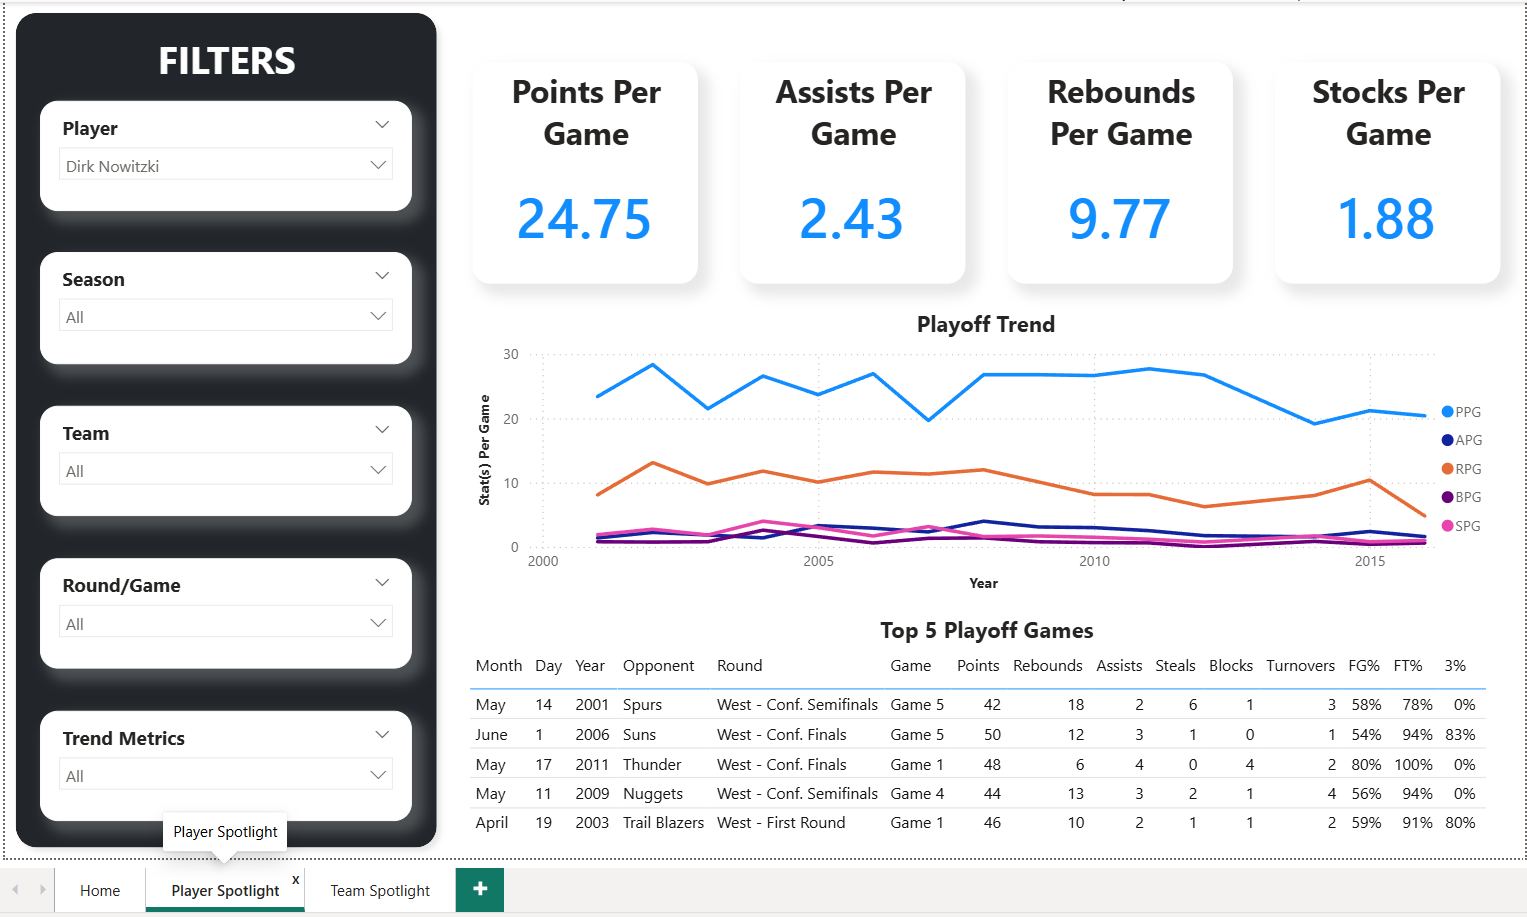

The page's visual inventory and layout, read from the dashboard file:
{"tool":"powerbi","page":{"name":"Player Spotlight","canvas":[1280,720],"ordinal":1},"visuals":[{"type":"shape","box":[0,0,372.2,720.2],"z":0},{"type":"textbox","box":[118.8,21,135.6,54.7],"z":1000},{"type":"slicer","fields":{"Values":["dim_players.player_name"]},"box":[29.1,82.6,312.8,93],"z":2000},{"type":"slicer","fields":{"Values":["processed_player_boxscores.season_year"]},"box":[29.1,210.8,312.8,94.2],"z":3000},{"type":"slicer","fields":{"Values":["processed_player_boxscores.team_name"]},"box":[29.1,340.1,312.8,93],"z":4000},{"type":"slicer","fields":{"Values":["processed_player_boxscores.gamelabel","processed_player_boxscores.gamesublabel"]},"box":[29.1,468.3,312.8,93],"z":5000},{"type":"cardVisual","title":"Points Per Game","fields":{"Data":["_Measures.PPG"]},"box":[393,50,189.5,186],"z":6000},{"type":"cardVisual","title":"Assists Per Game","fields":{"Data":["_Measures.APG"]},"box":[618.2,50,189.5,186],"z":7000},{"type":"cardVisual","title":"Rebounds Per Game","fields":{"Data":["_Measures.RPG"]},"box":[843.4,50,189.5,186],"z":8000},{"type":"cardVisual","title":"Stocks Per Game","fields":{"Data":["_Measures.SPG"]},"box":[1068.6,50,189.5,186],"z":9000},{"type":"lineChart","title":"Playoff Trend","fields":{"Y":["_Measures.PPG","_Measures.APG","_Measures.RPG","_Measures.BPG","_Measures.SPG"],"Category":["dim_games.season_year"]},"box":[393.2,257.6,864.3,243.9],"z":10000},{"type":"slicer","fields":{"Values":["Trend Metrics.Trend Metrics"]},"box":[29.1,596.5,312.8,93],"z":11000},{"type":"tableEx","title":"Top 5 Playoff Games","fields":{"Values":["processed_player_boxscores.gamedatetimeest.Variation.Date Hierarchy.Month","processed_player_boxscores.gamedatetimeest.Variation.Date Hierarchy.Day","processed_player_boxscores.gamedatetimeest.Variation.Date Hierarchy.Year","processed_player_boxscores.opponent_team_name","processed_player_boxscores.gamelabel","processed_player_boxscores.gamesublabel","processed_player_boxscores.points","processed_player_boxscores.rebounds","processed_player_boxscores.assists","processed_player_boxscores.steals","processed_player_boxscores.blocks","processed_player_boxscores.turnovers"]},"box":[384.8,515.2,882.1,198.7],"z":12000}]}

Visuals, with their boxes on the page's 1280x720 design canvas (x1, y1, x2, y2). These are canvas units, not pixel positions in the 1527x917 screenshot, which may show the page scaled, cropped or inside an application window:
shape: BBox(0, 0, 372, 720)
textbox: BBox(119, 21, 254, 76)
slicer - dim_players.player_name: BBox(29, 83, 342, 176)
slicer - processed_player_boxscores.season_year: BBox(29, 211, 342, 305)
slicer - processed_player_boxscores.team_name: BBox(29, 340, 342, 433)
slicer - processed_player_boxscores.gamelabel x processed_player_boxscores.gamesublabel: BBox(29, 468, 342, 561)
"Points Per Game" cardVisual: BBox(393, 50, 582, 236)
"Assists Per Game" cardVisual: BBox(618, 50, 808, 236)
"Rebounds Per Game" cardVisual: BBox(843, 50, 1033, 236)
"Stocks Per Game" cardVisual: BBox(1069, 50, 1258, 236)
"Playoff Trend" lineChart: BBox(393, 258, 1258, 502)
slicer - Trend Metrics.Trend Metrics: BBox(29, 596, 342, 690)
"Top 5 Playoff Games" tableEx: BBox(385, 515, 1267, 714)
